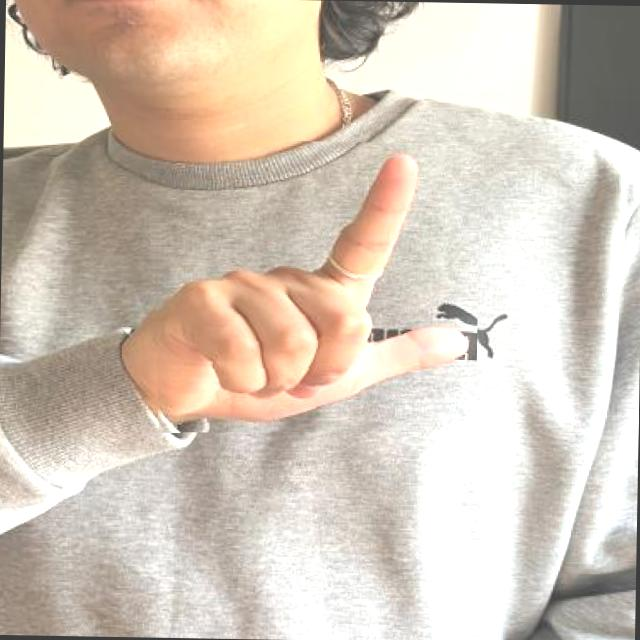L: (147, 138, 480, 438)
